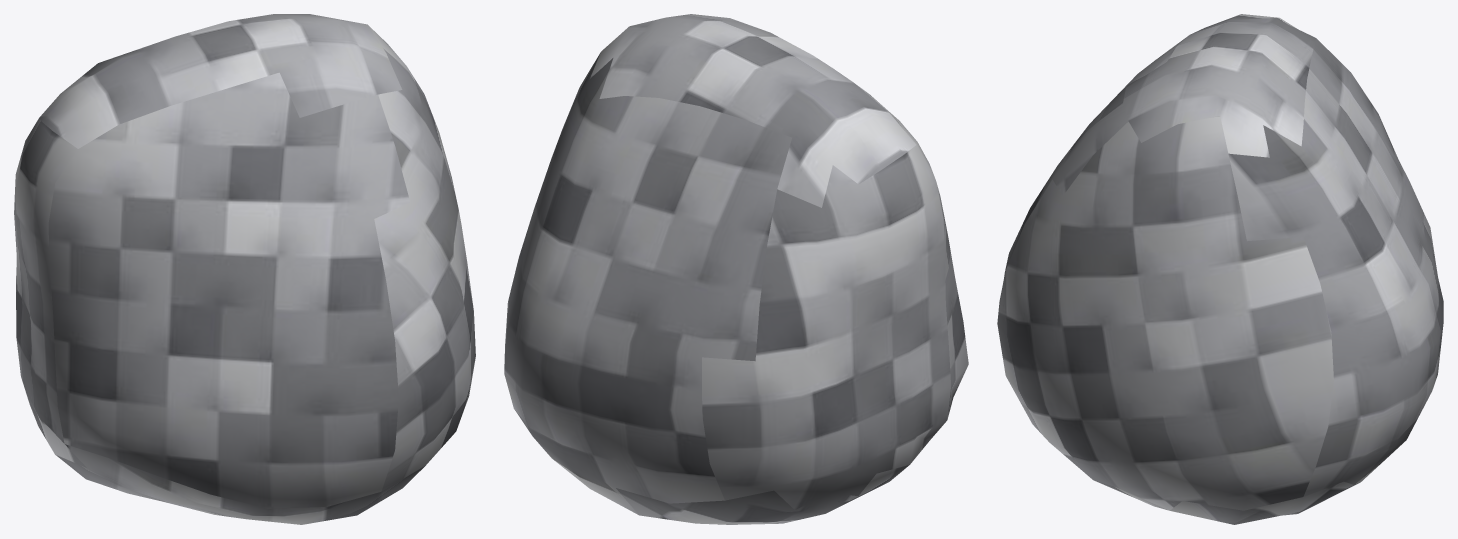
Rendered from Rock 03.fbx.
3 views of the same model, side by side, from view 1: azimuth 30°, elevation 25°; view 2: azimuth 150°, elevation 25°; view 3: azimuth 270°, elevation 25° (orthographic). The views are drawn at different scales.
Visible parts, largest first — view 1: Rock.003; view 2: Rock.003; view 3: Rock.003.
Part boxes in pixels (x1,y1,x2,y2): Rock.003: (14, 14, 475, 524); Rock.003: (504, 14, 968, 524); Rock.003: (997, 14, 1443, 524).
Bounding box in the file's own units: 0.8286 × 0.9022 × 0.8184.
